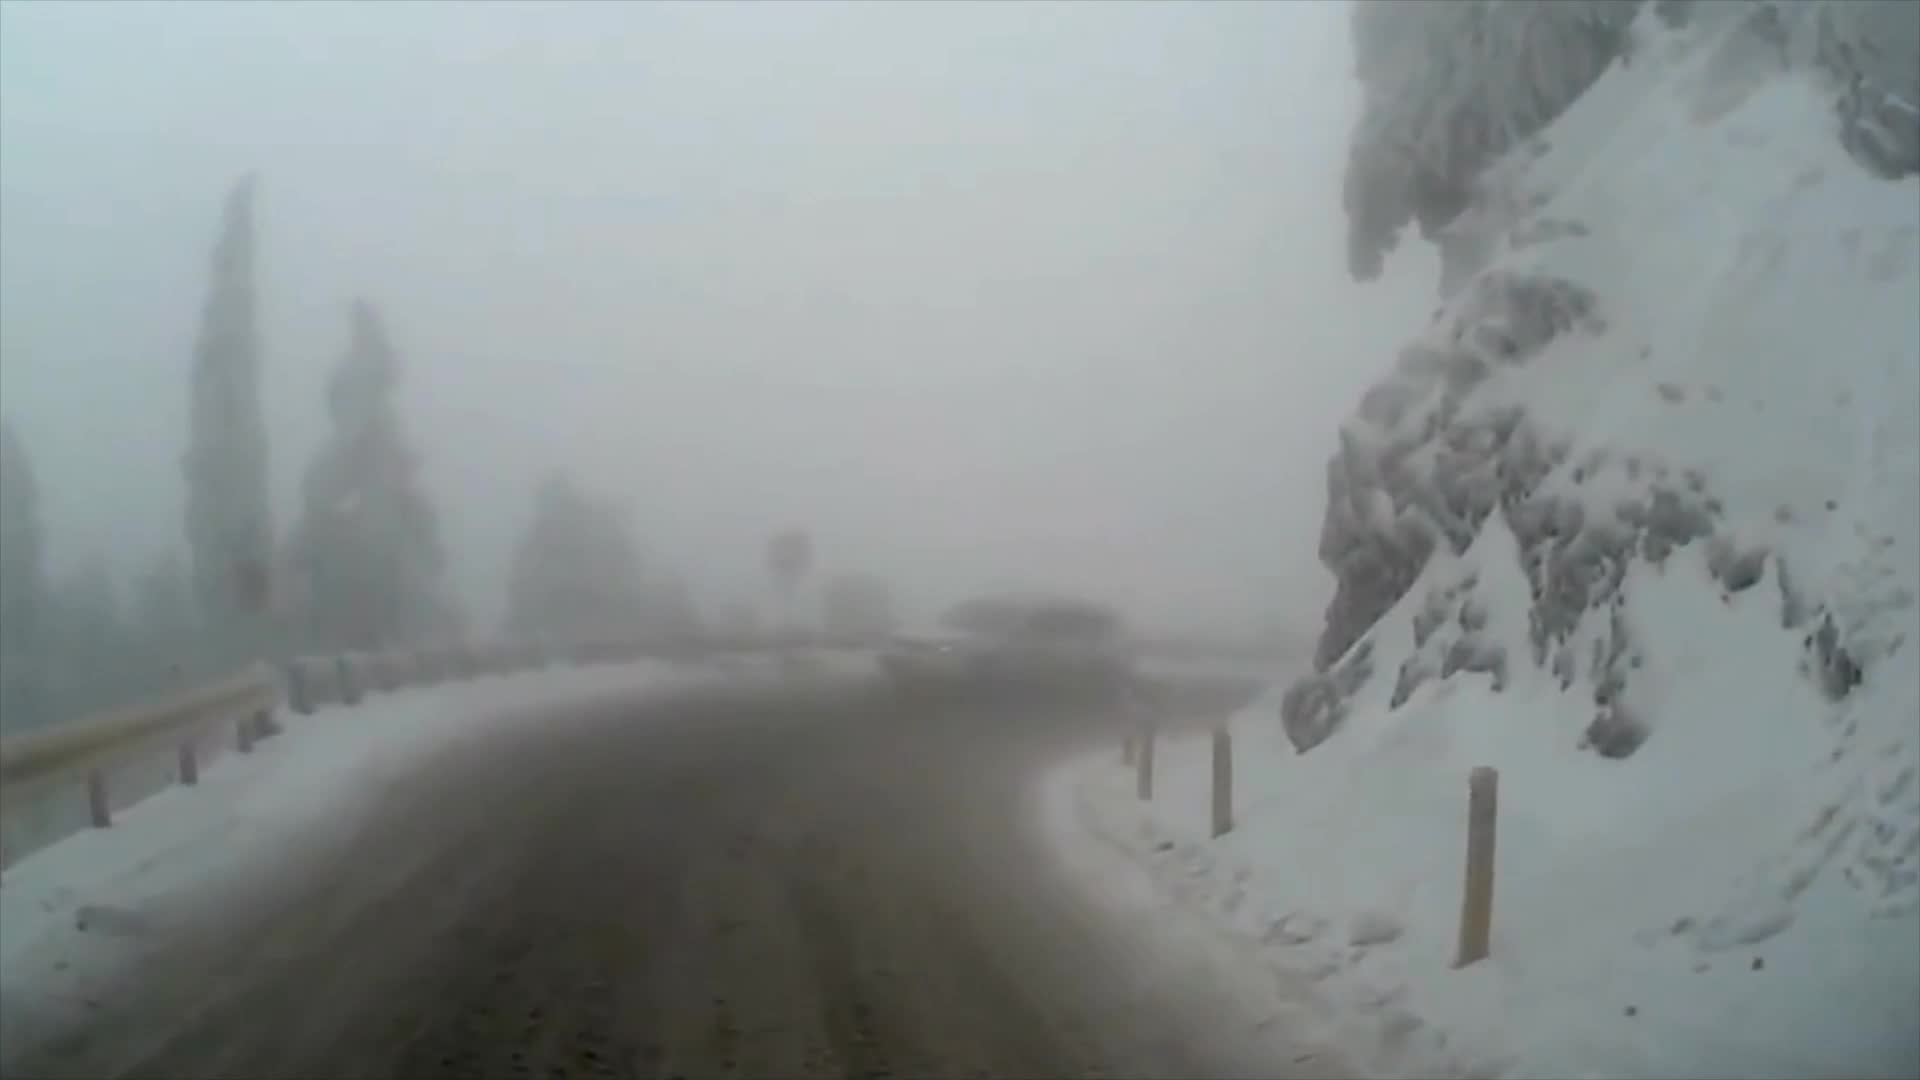vehicle: (876, 589, 1135, 711)
